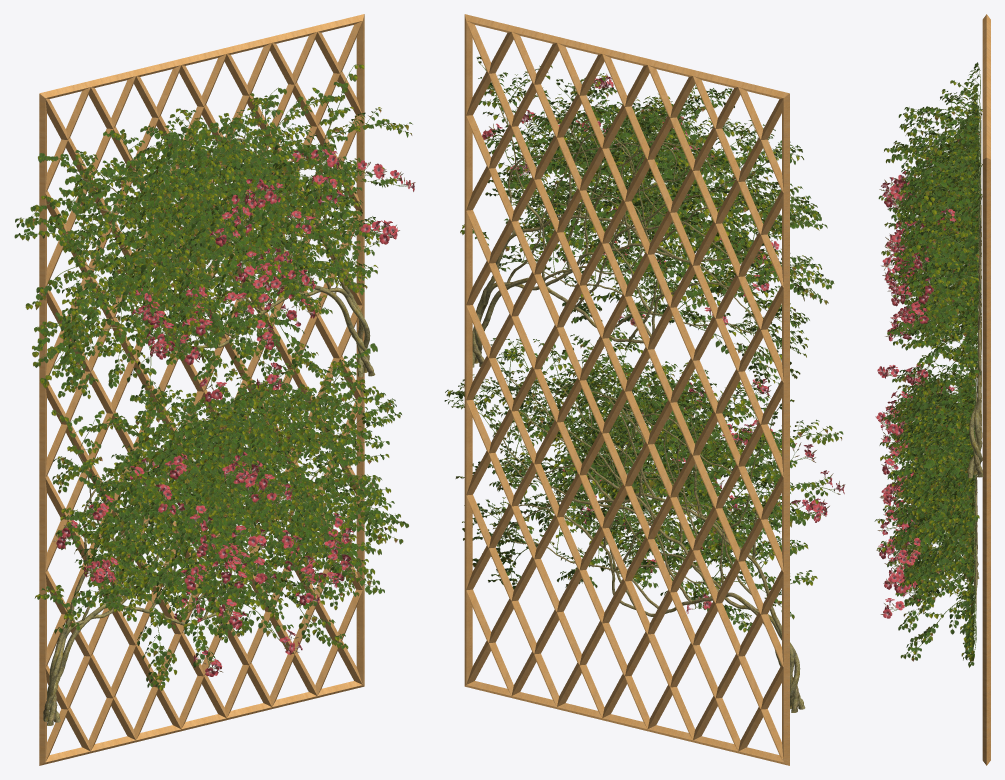
The model's file is Sienele.glb.
3 renders of one model, left to right at view 1: azimuth 30°, elevation 25°; view 2: azimuth 150°, elevation 25°; view 3: azimuth 270°, elevation 25°, orthographic. The views are drawn at different scales.
Visible parts, largest first — view 1: MT_PM_V60_Campsis_grandiflora_01_04, Plane; view 2: Plane, MT_PM_V60_Campsis_grandiflora_01_04; view 3: MT_PM_V60_Campsis_grandiflora_01_04, Plane.
Boxes of the visible parts, x1,y1,x2,y2 form: MT_PM_V60_Campsis_grandiflora_01_04: (14,64,415,725); Plane: (39,14,364,765); Plane: (464,14,789,765); MT_PM_V60_Campsis_grandiflora_01_04: (444,56,845,712); MT_PM_V60_Campsis_grandiflora_01_04: (874,62,983,667); Plane: (982,14,990,765).
Size of the model in its own units: 1.21 by 2.03 by 0.3523.
Materials: 5 (5 with a texture image).
